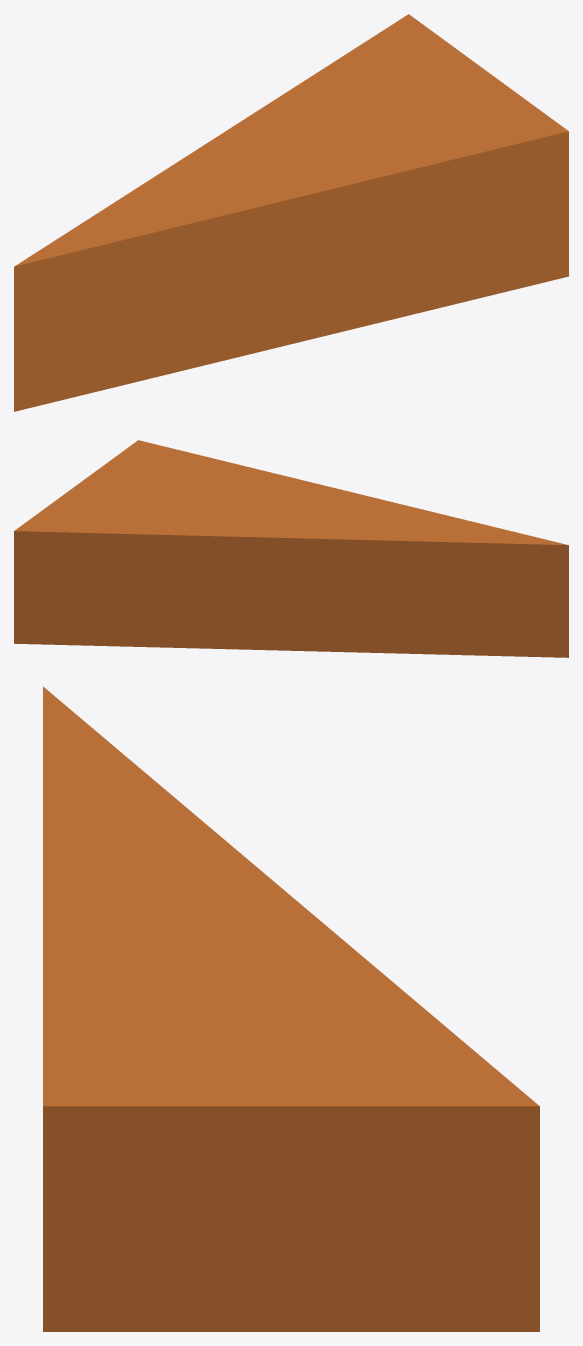
The model's file is LongTriO.fbx.
3 renders of one model, top to bottom at view 1: azimuth 30°, elevation 25°; view 2: azimuth 150°, elevation 25°; view 3: azimuth 270°, elevation 25°, orthographic. The views are drawn at different scales.
Parts seen in each view (by area): view 1: LongTriO; view 2: LongTriO; view 3: LongTriO.
Boxes of the visible parts, x1,y1,x2,y2 form: LongTriO: (14, 14, 568, 411); LongTriO: (14, 440, 568, 657); LongTriO: (43, 686, 539, 1331).
Size of the model in its own units: 2400 by 600 by 1200.
